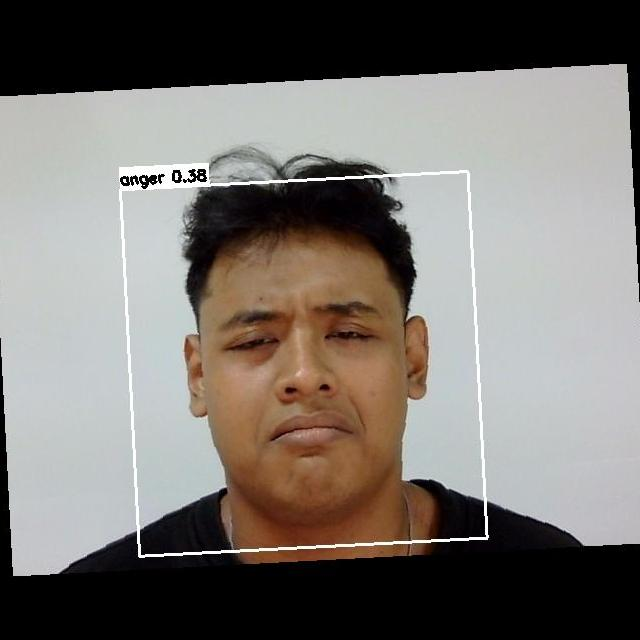Sad: (190, 285, 415, 475)
